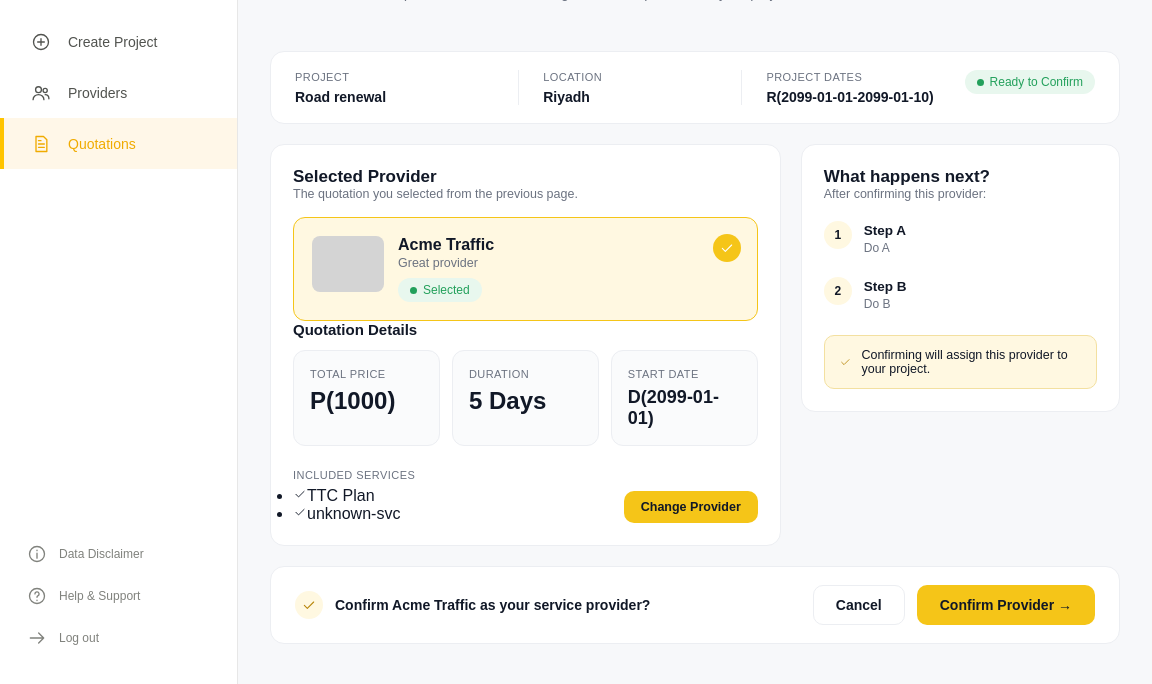
SelectProviderPage › فشل التأكيد برسالة
(page scrolled)
expect the heading "Acme Traffic" is shown: met, box [398,236,494,254]
Click the button "Confirm Provider →": point(1006, 605) [917,585,1095,625]
(page scrolled)
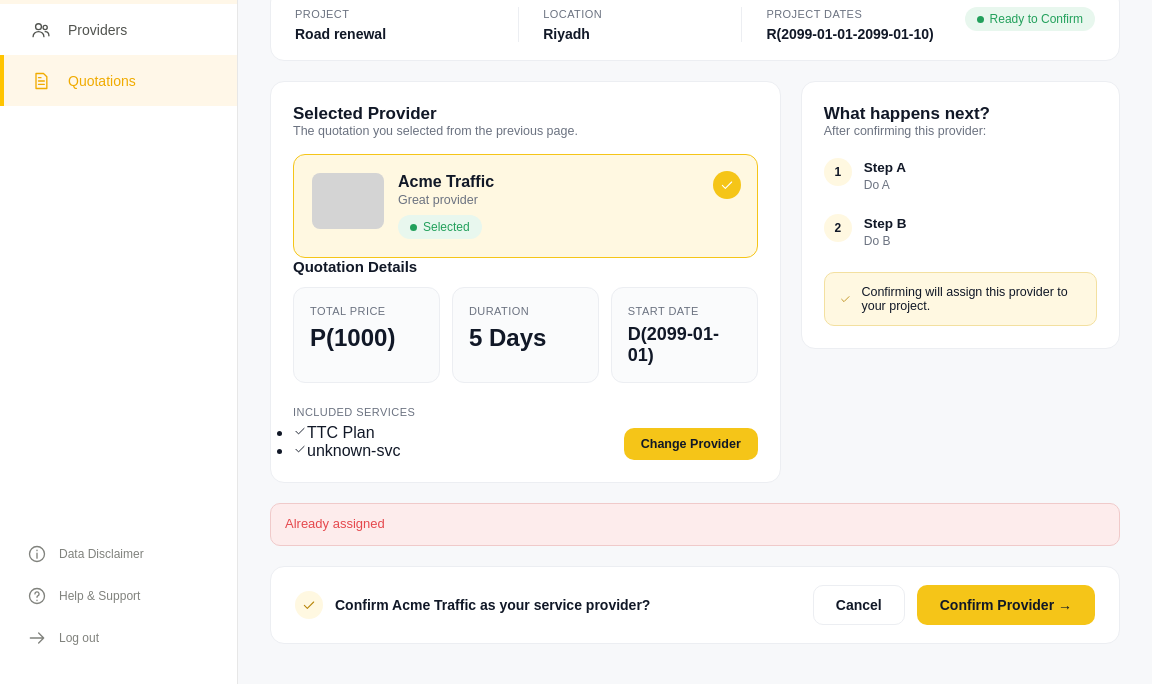
expect the message reads "Already assigned": met, box [285,516,385,531]
